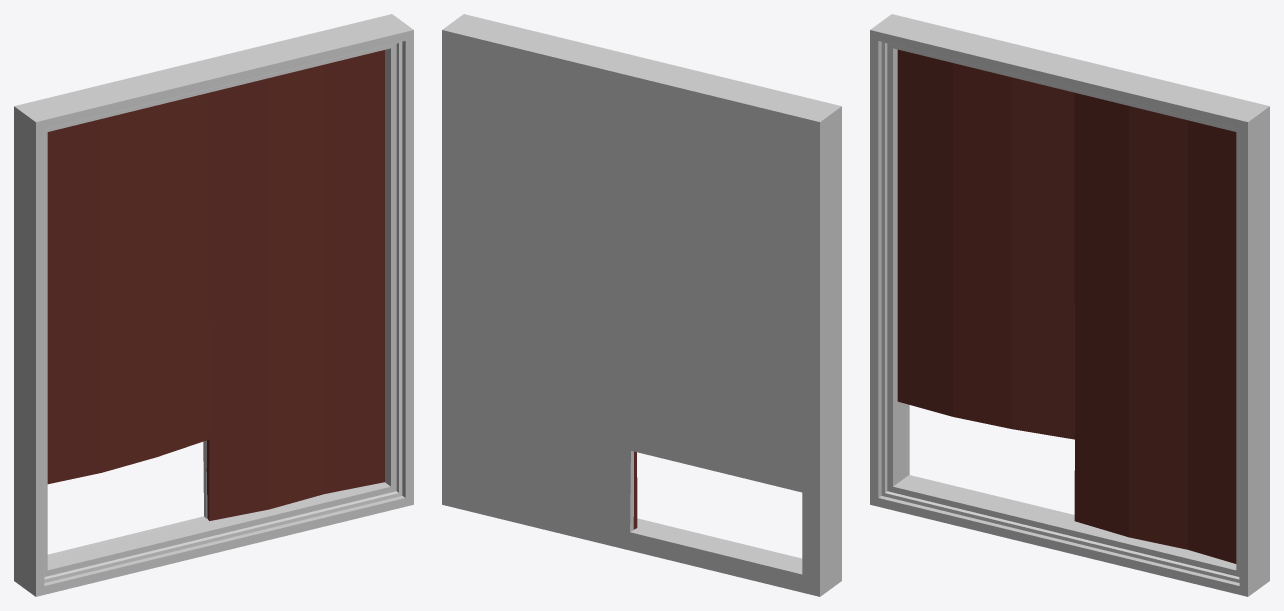
Rendered from Living Wall Hole.fbx.
3 renders of one model, left to right at view 1: azimuth 30°, elevation 25°; view 2: azimuth 150°, elevation 25°; view 3: azimuth 330°, elevation 25°, orthographic.
Visible parts, largest first — view 1: Cube.004; view 2: Cube.004; view 3: Cube.004.
Boxes of the visible parts, x1=… form: Cube.004: x1=14, y1=14, x2=413, y2=596; Cube.004: x1=442, y1=14, x2=841, y2=596; Cube.004: x1=870, y1=14, x2=1269, y2=596.
Size of the model in its own units: 5 by 6 by 0.5.
